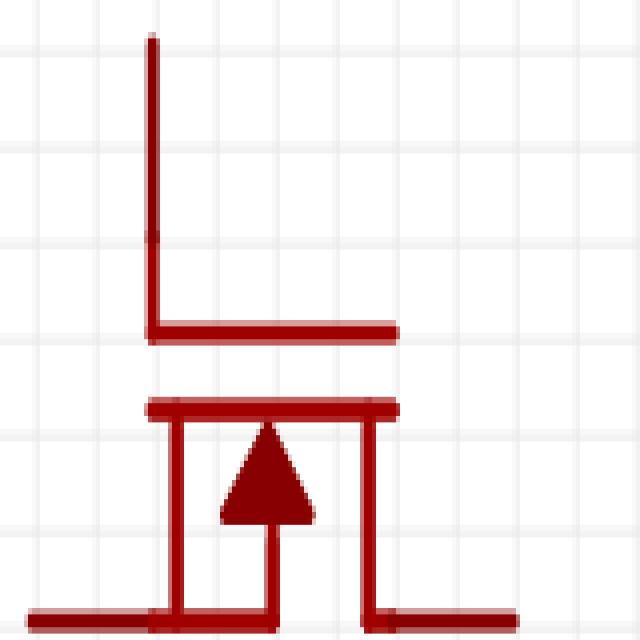nmos: (34, 28, 530, 640)
